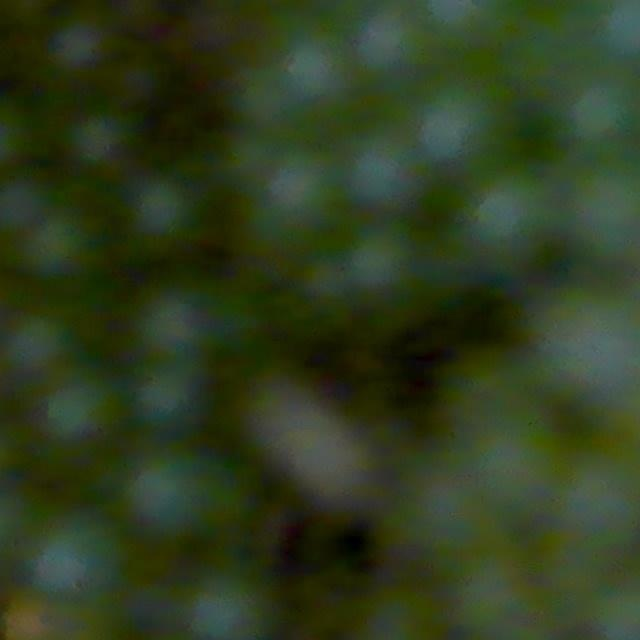SeaGrape: (451, 392, 563, 517), (543, 288, 640, 413), (539, 462, 639, 563), (551, 155, 640, 267), (124, 449, 225, 538), (29, 511, 124, 604), (254, 145, 343, 239), (422, 79, 514, 167), (460, 166, 551, 254), (124, 292, 218, 375), (268, 17, 351, 105), (121, 174, 199, 258), (21, 206, 101, 286), (564, 63, 640, 146), (347, 130, 422, 213), (342, 219, 419, 298), (39, 376, 119, 452), (198, 564, 278, 640), (125, 361, 203, 437), (347, 0, 426, 75), (2, 308, 72, 375), (64, 107, 136, 172), (46, 12, 113, 77), (222, 58, 289, 121), (0, 173, 50, 235)
